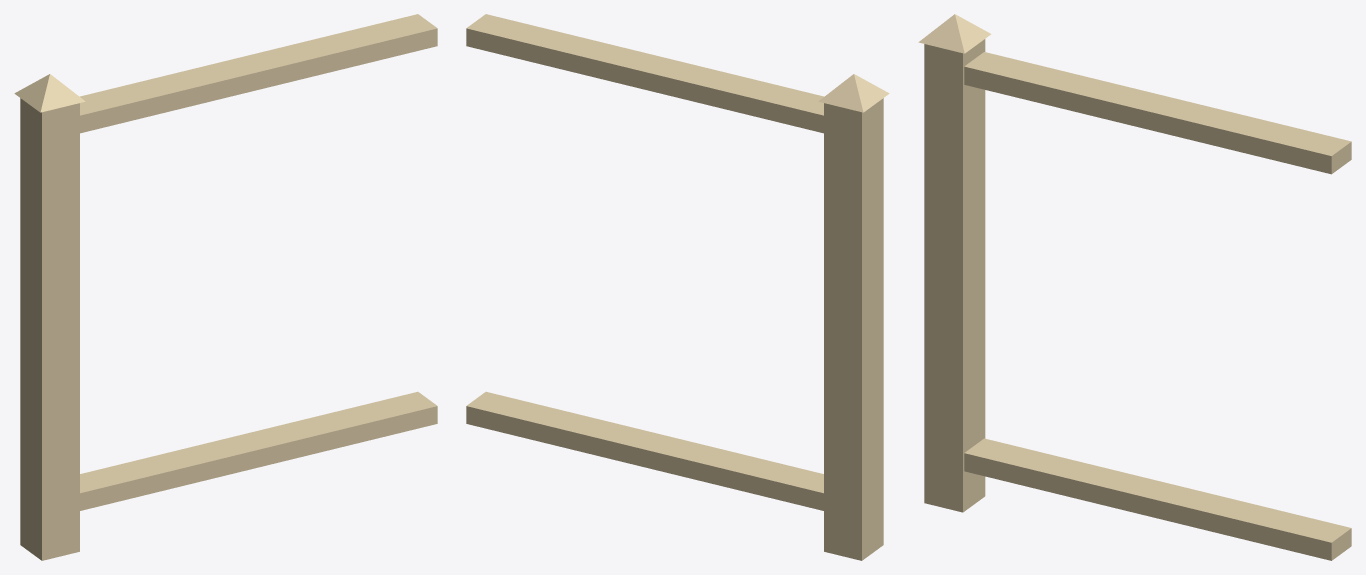
File: mod_railing.glb
3 renders of one model, left to right at view 1: azimuth 30°, elevation 25°; view 2: azimuth 150°, elevation 25°; view 3: azimuth 330°, elevation 25°, orthographic. The views are drawn at different scales.
Parts seen in each view (by area): view 1: post, rails; view 2: post, rails; view 3: rails, post.
Part boxes in pixels (x1,y1,x2,y2): post: [14, 74, 85, 560]; rails: [80, 14, 437, 510]; post: [818, 74, 889, 560]; rails: [466, 14, 823, 510]; rails: [964, 52, 1351, 560]; post: [918, 14, 991, 512].
Size of the model in its own units: 1.06 by 1.2 by 0.1202.
